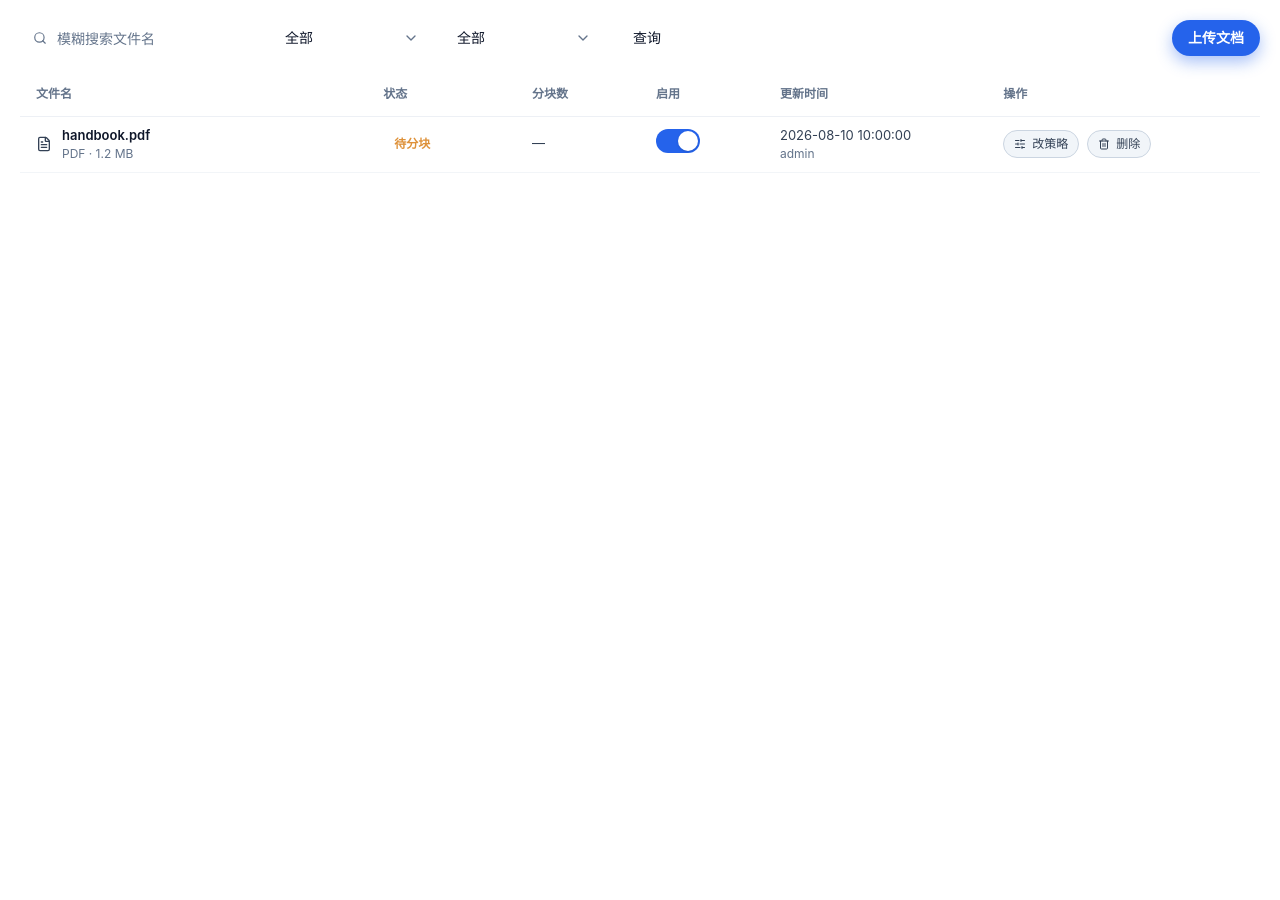
Scenario: DocumentsPage › switches upload form to structure-aware defaults
This screenshot has width=1280, height=900.
Expected: the text "handbook.pdf" is shown, top-left (62, 126), bottom-right (150, 146)
Click the button "上传文档".
click(1216, 38)  # box top-left (1172, 20), bottom-right (1260, 56)
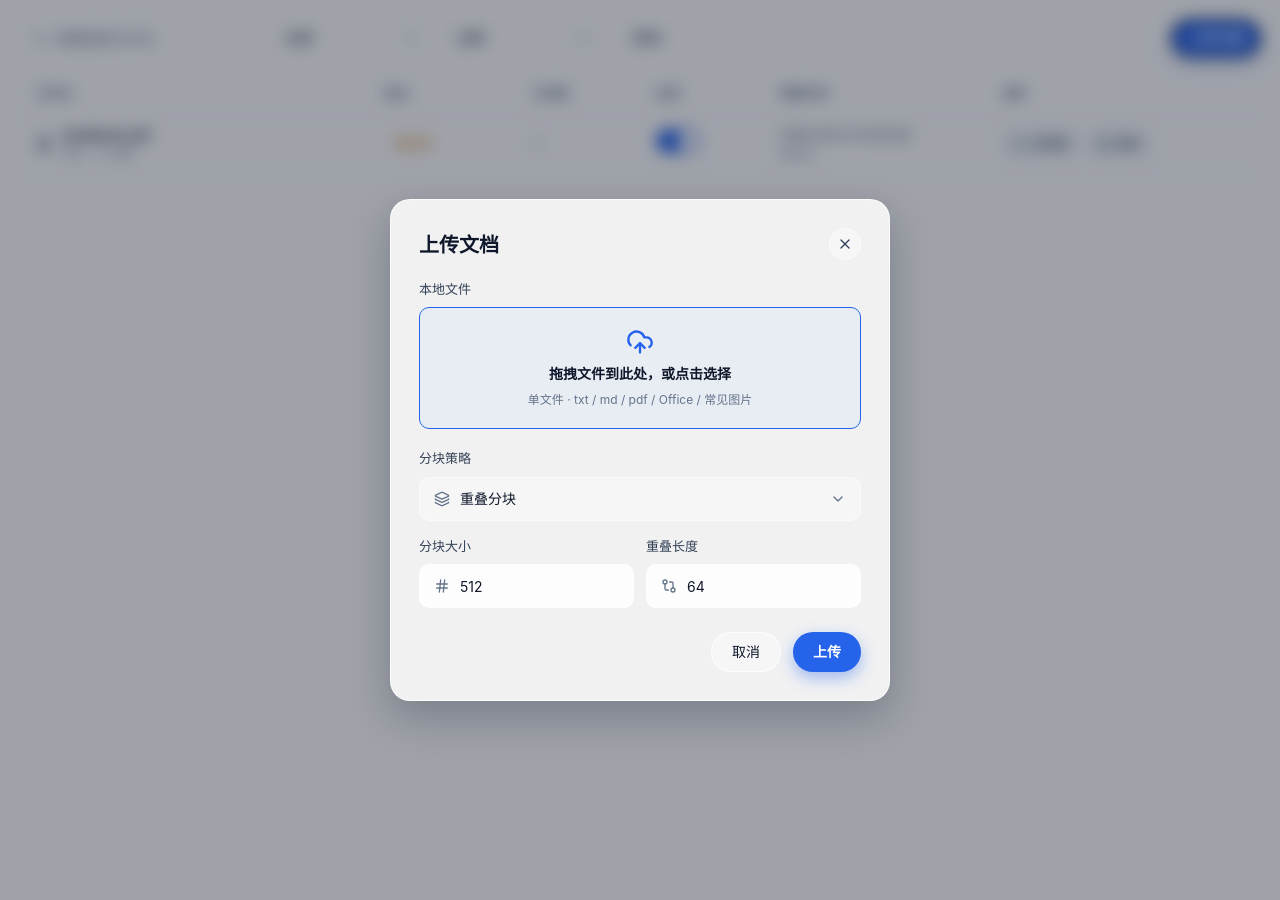
Click the button with aria-label "分块策略".
click(488, 498)  # box top-left (419, 477), bottom-right (861, 521)
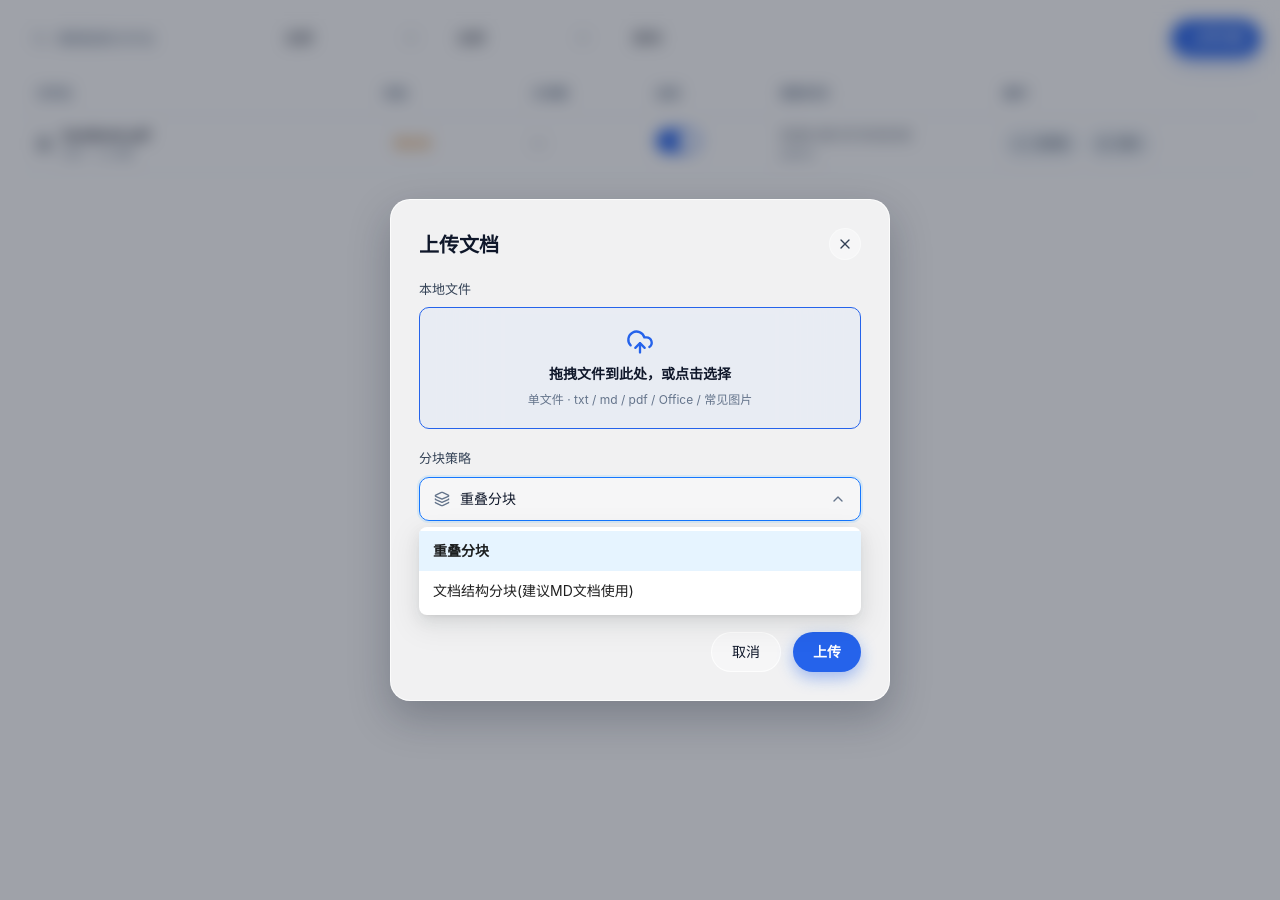
Click the option "文档结构分块(建议MD文档使用)".
click(534, 590)  # box top-left (433, 582), bottom-right (634, 599)
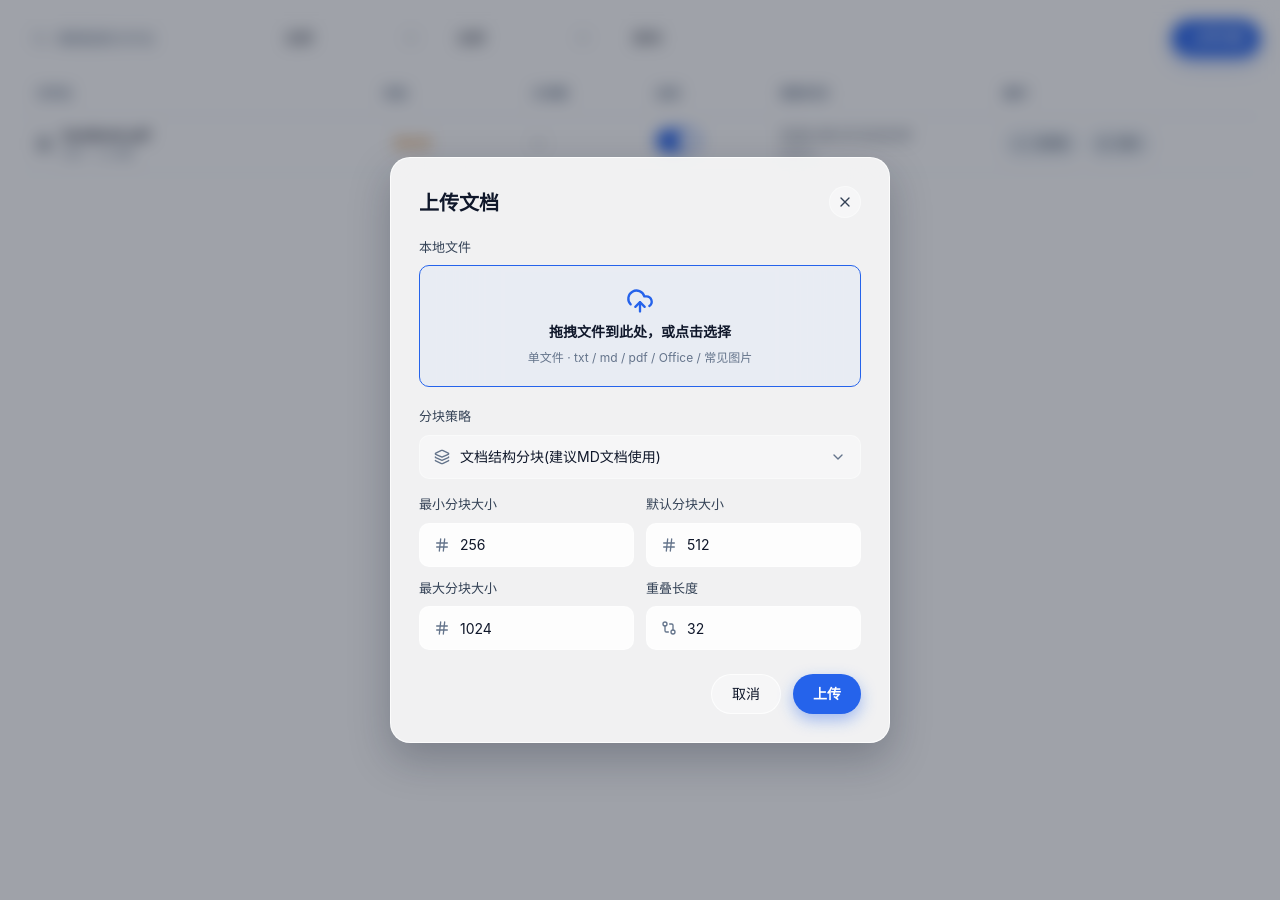
Expected: the field labelled "最小分块大小" holds "256", top-left (460, 524), bottom-right (619, 566)
Expected: the field labelled "默认分块大小" holds "512", top-left (687, 524), bottom-right (846, 566)
Expected: the field labelled "最大分块大小" holds "1024", top-left (460, 607), bottom-right (619, 649)
